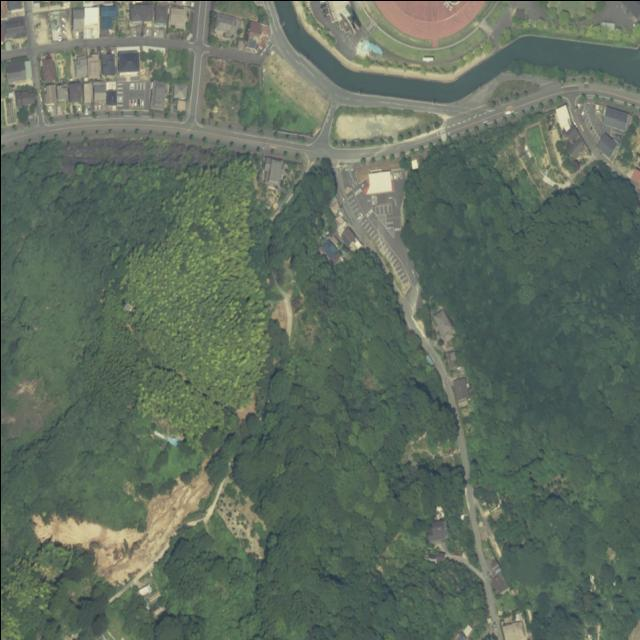landslide: (31, 466, 211, 584), (271, 274, 292, 337)
